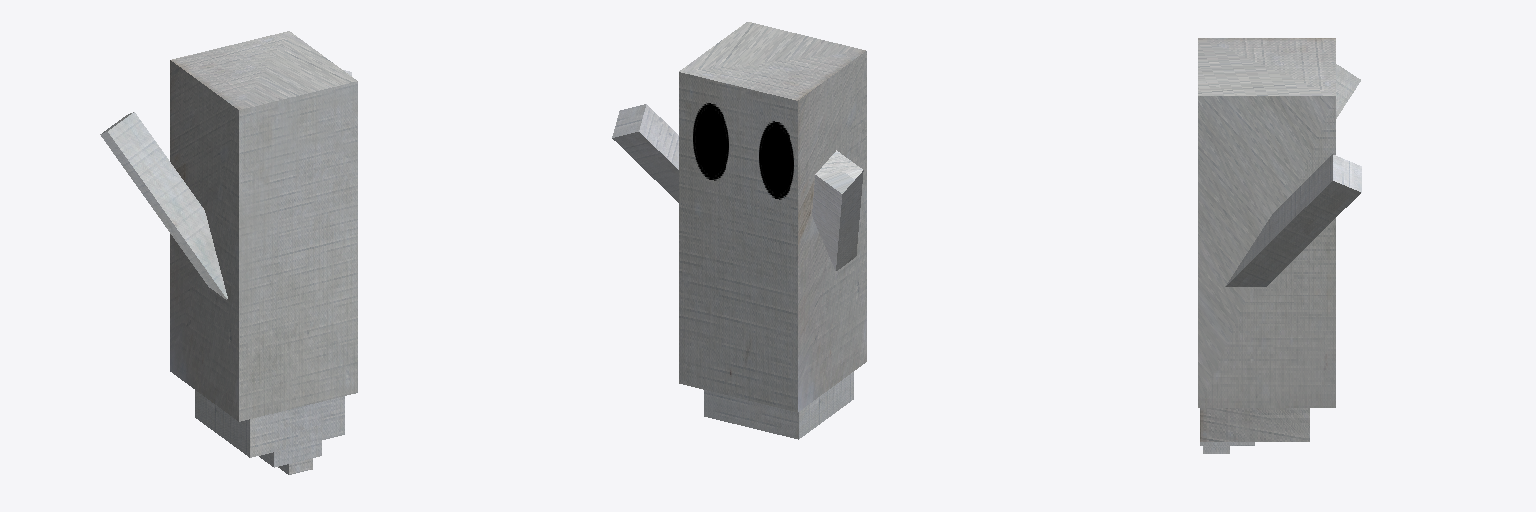
3 renders of one model, left to right at view 1: azimuth 30°, elevation 25°; view 2: azimuth 150°, elevation 25°; view 3: azimuth 270°, elevation 25°, orthographic.
Size of the model in its own units: 0.2049 by 0.3043 by 0.1186.
2 materials, 1 textured.